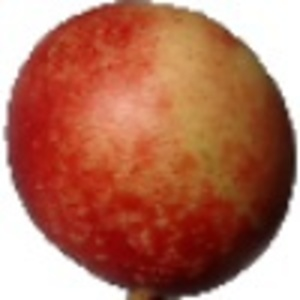nectarina: (4, 1, 299, 300)
